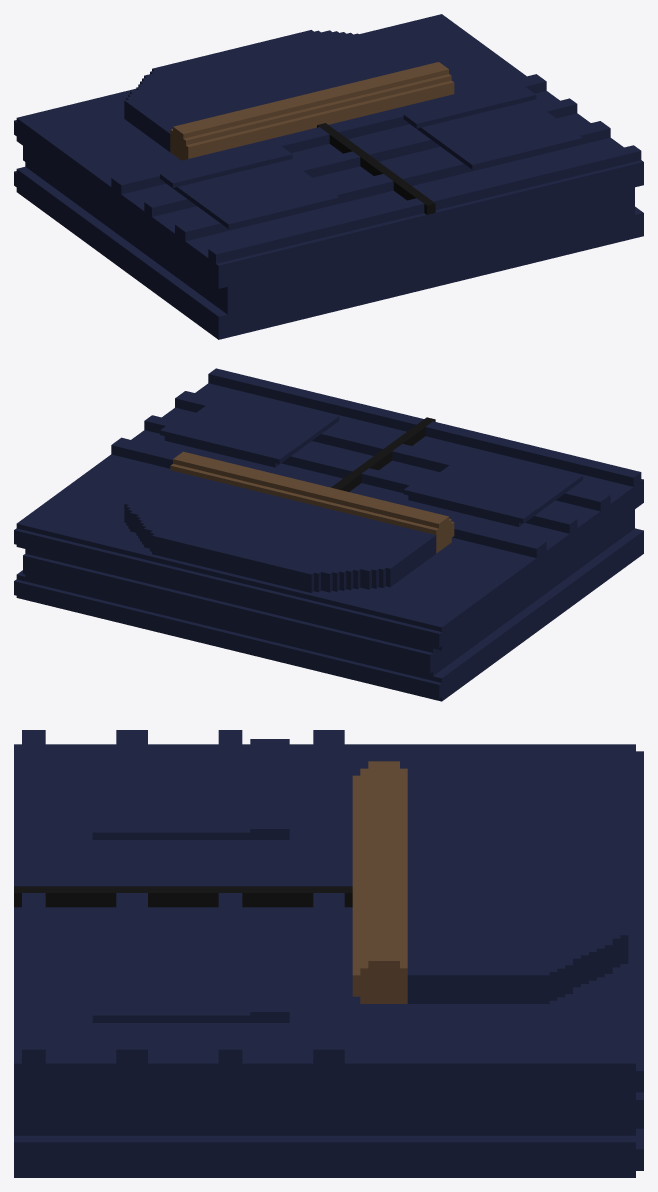
Rendered from coat_winter.glb.
3 views of the same model, one above another, from view 1: azimuth 30°, elevation 25°; view 2: azimuth 150°, elevation 25°; view 3: azimuth 270°, elevation 25° (orthographic). The views are drawn at different scales.
Parts seen in each view (by area): view 1: coat_winter:compound; view 2: coat_winter:compound; view 3: coat_winter:compound.
Part boxes in pixels (left/top/right/bottom): coat_winter:compound: left=14, top=14, right=643, bottom=339; coat_winter:compound: left=14, top=368, right=643, bottom=701; coat_winter:compound: left=14, top=730, right=643, bottom=1177.
Size of the model in its own units: 0.384 by 0.088 by 0.32.
